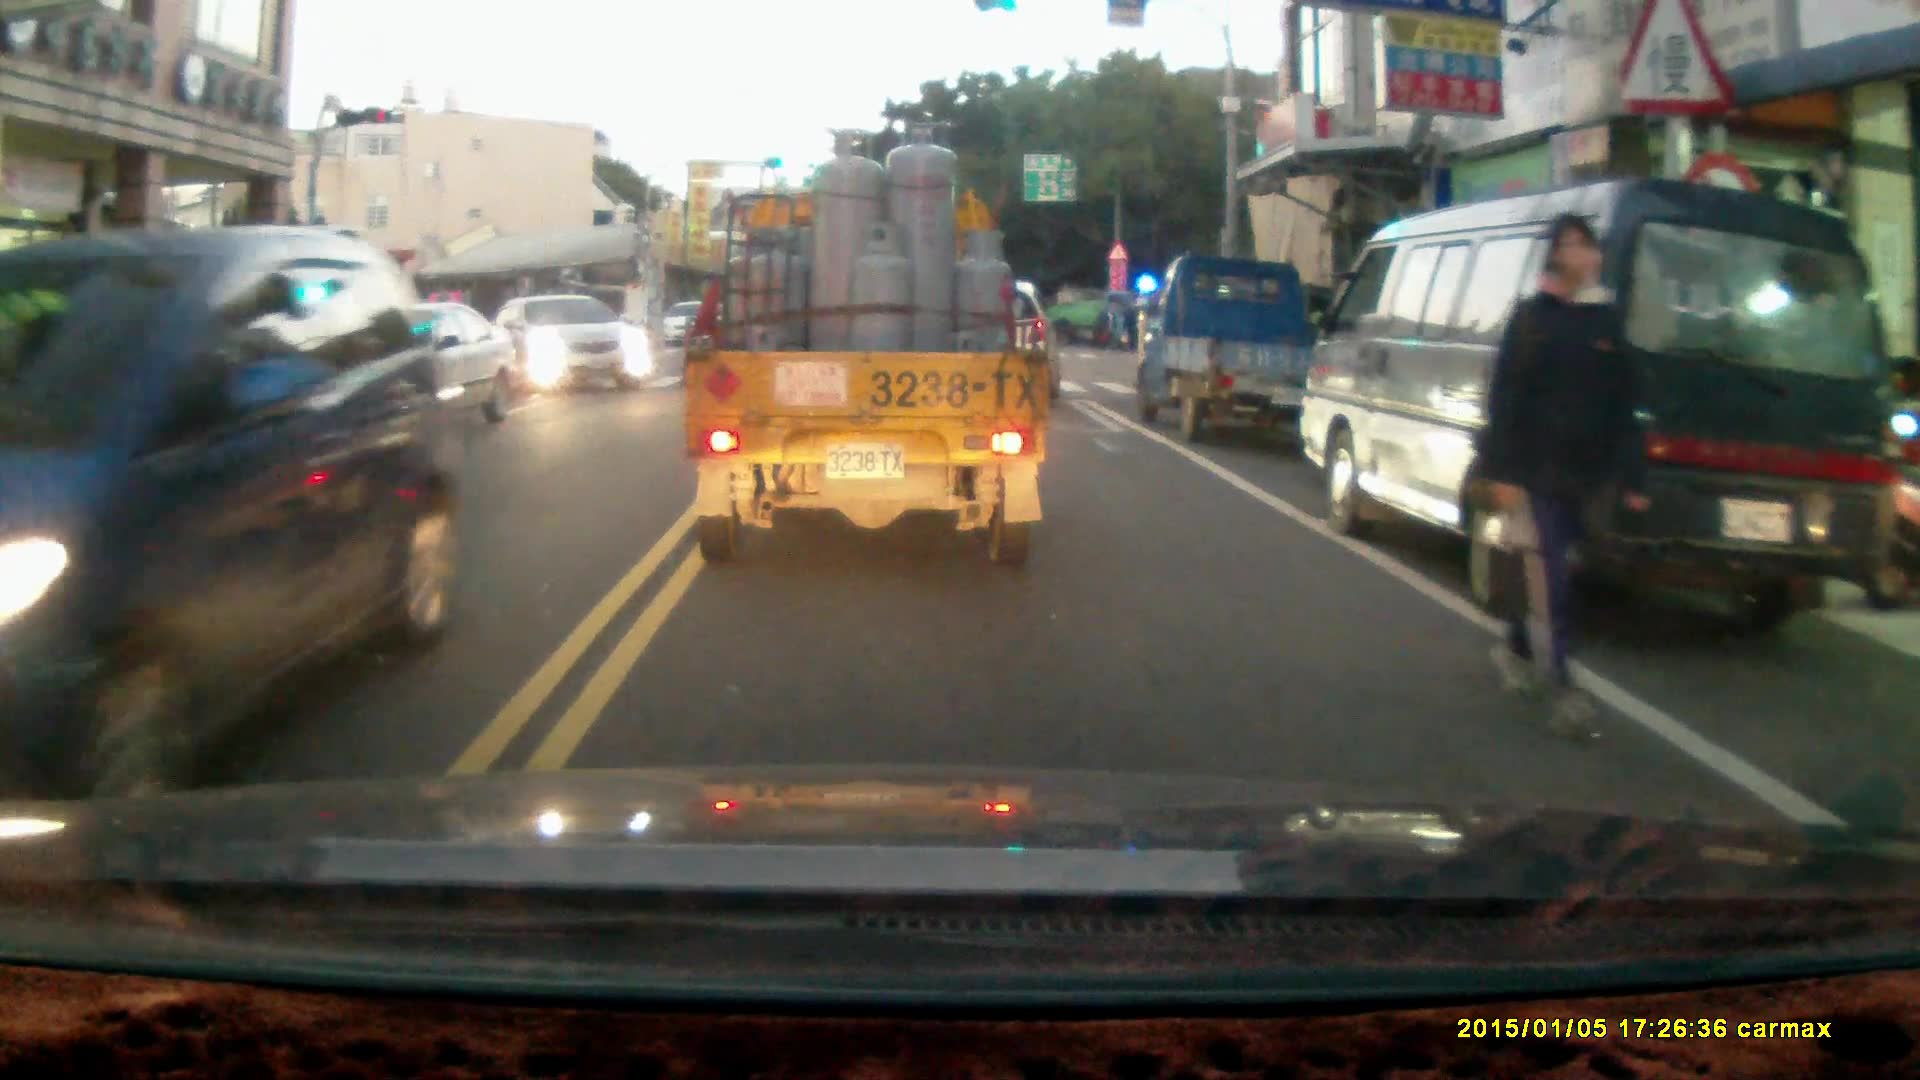pedestrian: (1483, 208, 1640, 742)
vehicle: (1, 224, 485, 819), (1300, 175, 1883, 639), (682, 124, 1051, 568), (241, 299, 513, 446), (1139, 251, 1327, 442), (496, 295, 648, 398)
